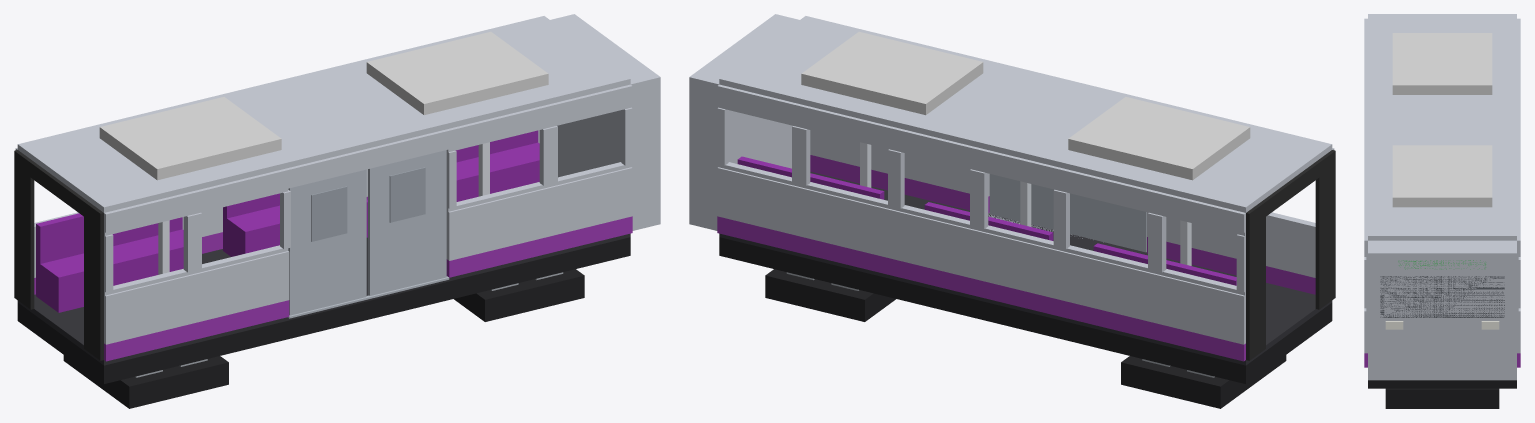
Rendered from metro_wagon_lead_closed_l5.obj.
3 renders of one model, left to right at view 1: azimuth 30°, elevation 25°; view 2: azimuth 150°, elevation 25°; view 3: azimuth 270°, elevation 25°, orthographic. The views are drawn at different scales.
Size of the model in its own units: 3.16 by 1.26 by 0.88.
